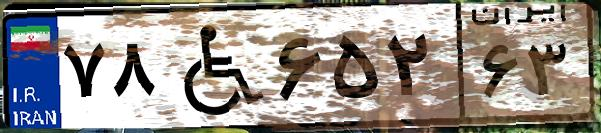2: (385, 28, 445, 110)
3: (525, 38, 570, 115)
5: (330, 28, 385, 110)
6: (270, 28, 330, 110), (475, 38, 525, 113)
7: (57, 26, 110, 100)
8: (110, 28, 158, 98)
ژ (معلولین و جانبازان): (158, 12, 270, 120)
